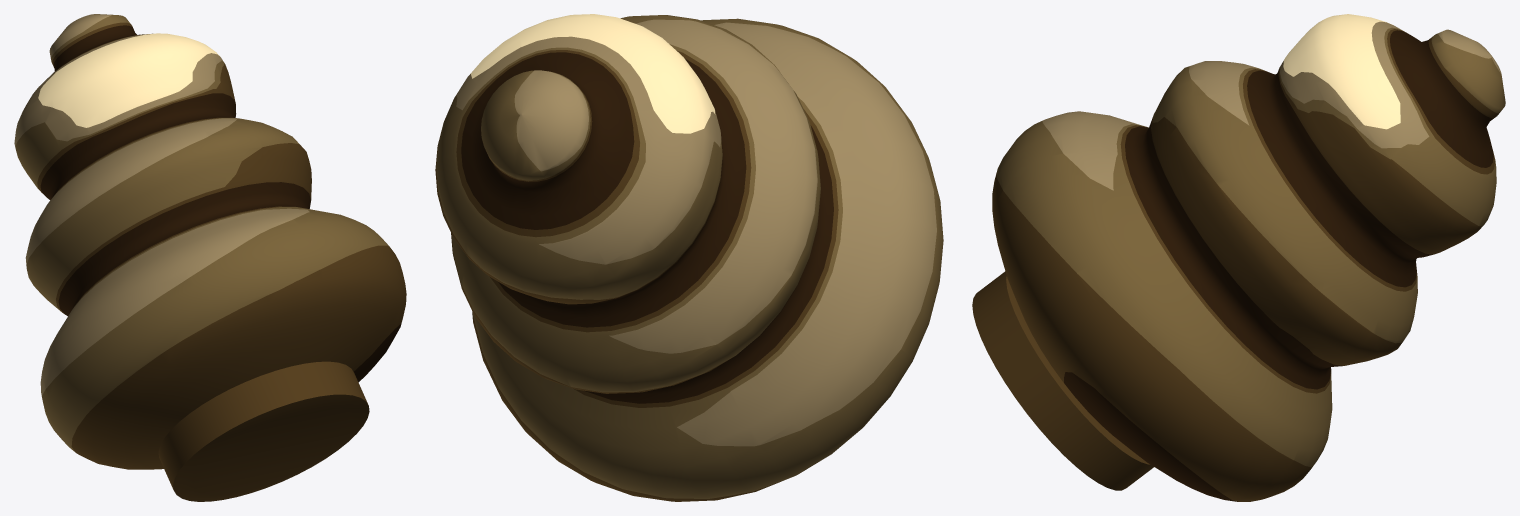
Rendered from pump_dome_119.glb.
3 renders of one model, left to right at view 1: azimuth 30°, elevation 25°; view 2: azimuth 150°, elevation 25°; view 3: azimuth 270°, elevation 25°, orthographic. The views are drawn at different scales.
Visible parts, largest first — view 1: pump_dome_119; view 2: pump_dome_119; view 3: pump_dome_119.
Part boxes in pixels (<box>): pump_dome_119: <box>14,14,406,501</box>; pump_dome_119: <box>435,14,943,501</box>; pump_dome_119: <box>972,14,1505,501</box>.
Bounding box in the file's own units: 19.2 × 21.35 × 22.97.
